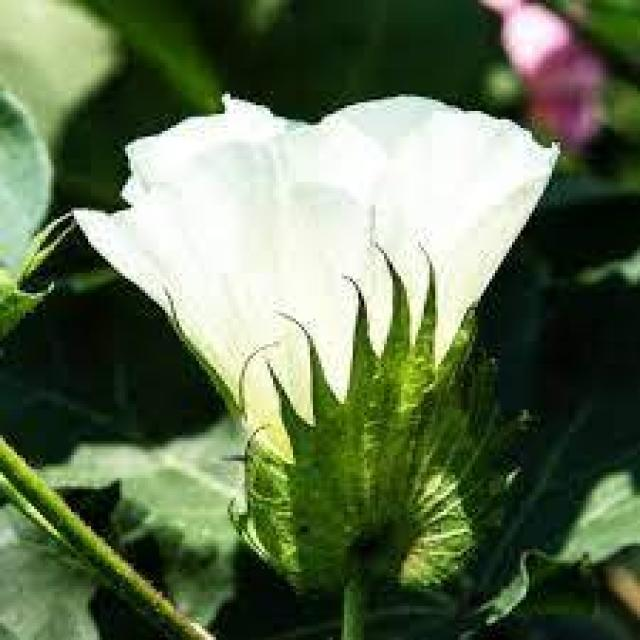Cotton Blossom: (100, 84, 542, 604)
